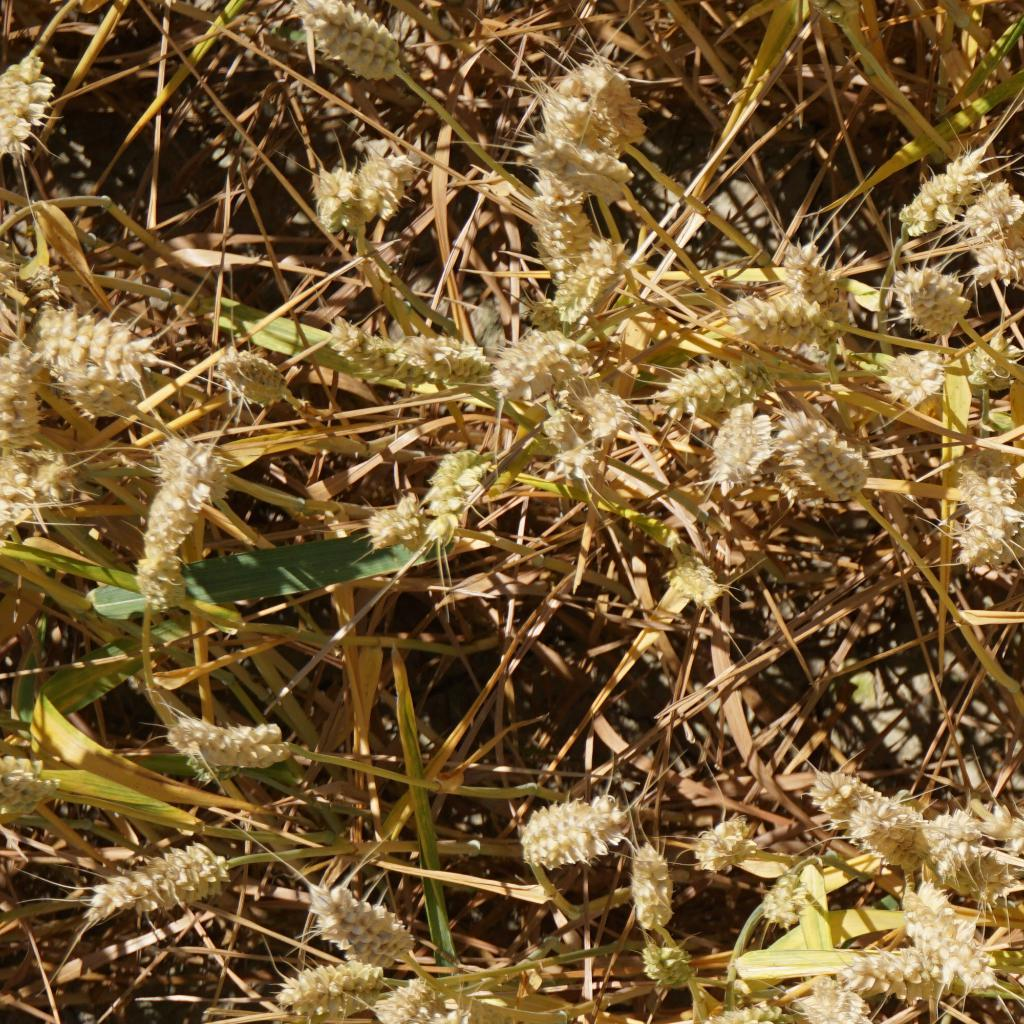0-0: (124, 455, 232, 616), (82, 839, 242, 925), (894, 878, 1004, 997), (310, 304, 451, 395), (19, 300, 168, 377), (289, 877, 412, 969), (293, 0, 421, 82), (769, 402, 868, 507), (506, 789, 627, 871), (941, 438, 1015, 570), (772, 230, 853, 348), (258, 956, 398, 1024), (139, 423, 231, 526), (164, 707, 290, 782), (418, 443, 498, 557), (514, 123, 633, 197), (512, 283, 615, 368), (711, 282, 829, 353), (546, 234, 640, 322), (891, 140, 979, 234), (553, 53, 646, 137), (0, 57, 70, 161), (884, 256, 975, 334), (696, 392, 775, 480), (200, 342, 295, 412), (338, 134, 415, 220), (482, 323, 583, 385), (785, 965, 888, 1024), (922, 795, 987, 888), (44, 366, 147, 424), (382, 328, 487, 382), (0, 335, 51, 443), (516, 167, 581, 249), (657, 541, 727, 612), (610, 839, 671, 920), (304, 161, 368, 238), (850, 804, 932, 864), (22, 253, 69, 355), (846, 938, 930, 994), (879, 344, 955, 405), (658, 354, 768, 396), (0, 452, 64, 524), (813, 766, 903, 817), (965, 796, 1024, 871), (539, 406, 603, 473), (685, 810, 752, 874), (955, 180, 1024, 239), (759, 862, 815, 931), (633, 940, 708, 991), (372, 970, 441, 1024), (362, 495, 428, 548), (975, 216, 1024, 285), (969, 329, 1024, 389), (683, 995, 777, 1024), (412, 1002, 534, 1024), (583, 385, 634, 433), (1001, 472, 1024, 550), (1012, 996, 1024, 1024)
